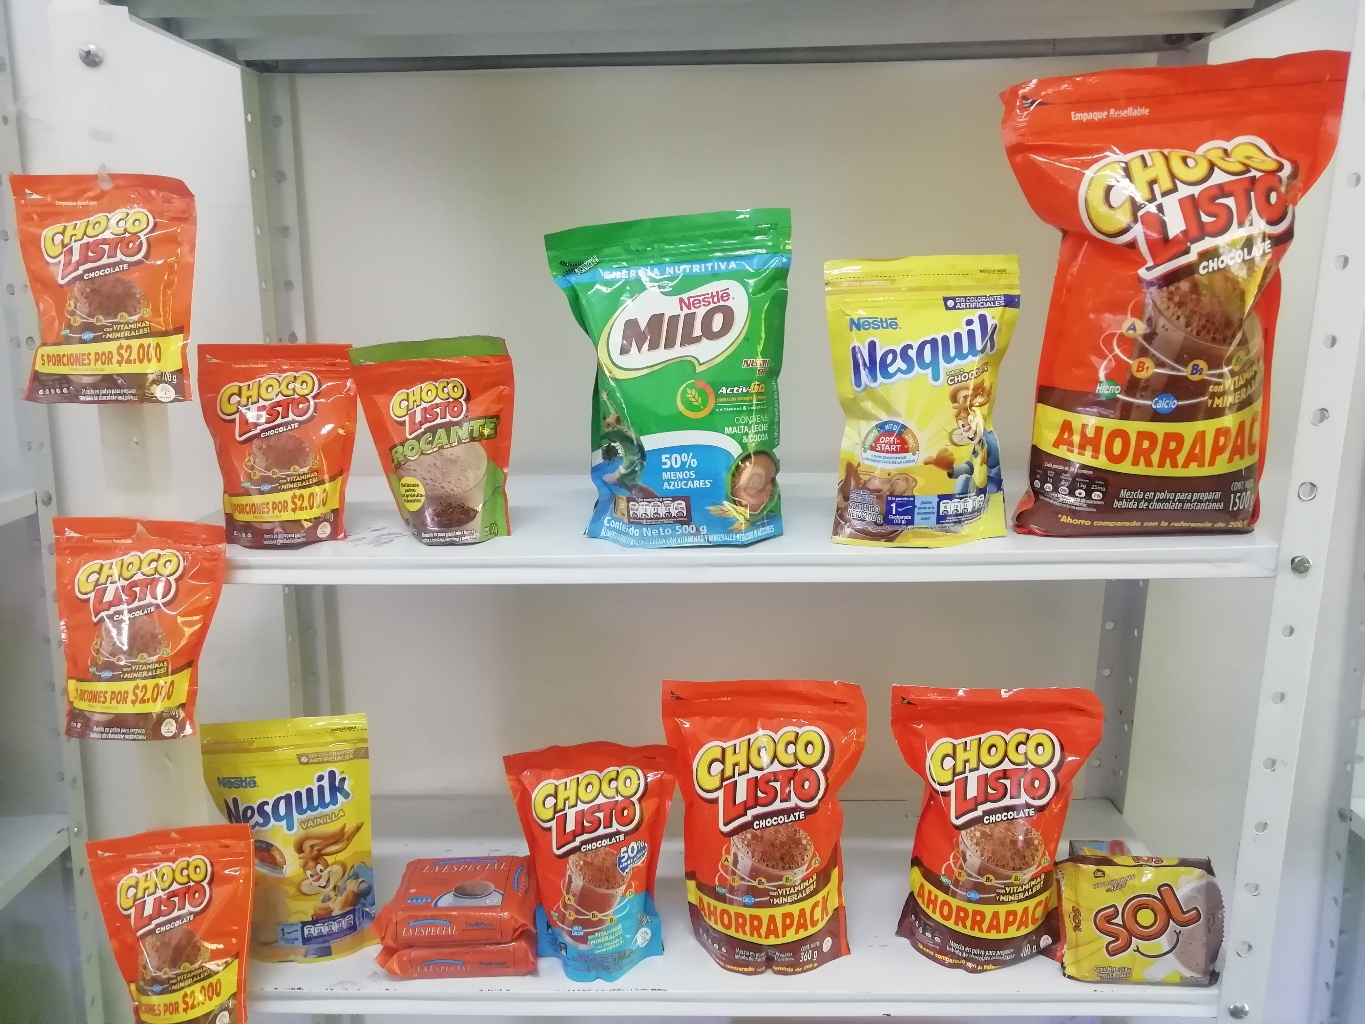COL0170102DYP10000: (341, 335, 522, 547)
COL0170103DYP1,500: (990, 55, 1356, 535)
COL0170103DYP10000: (9, 166, 197, 408)
COL0170103DYP36000: (662, 671, 869, 976)
COL0170103DYP40000: (888, 681, 1105, 970)
COL0170104DYP20000: (501, 746, 682, 986)
COL0170205DYP50000: (542, 210, 791, 547)
COL0170303DYP20000: (821, 258, 1021, 546)
COL0170306DYP20000: (200, 707, 378, 975)
